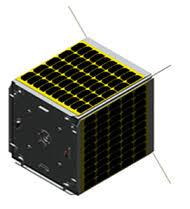antenna: (151, 152, 175, 187), (66, 3, 88, 38), (151, 63, 174, 78)
body: (5, 35, 157, 197)
solar: (21, 40, 145, 116), (83, 79, 150, 195)
